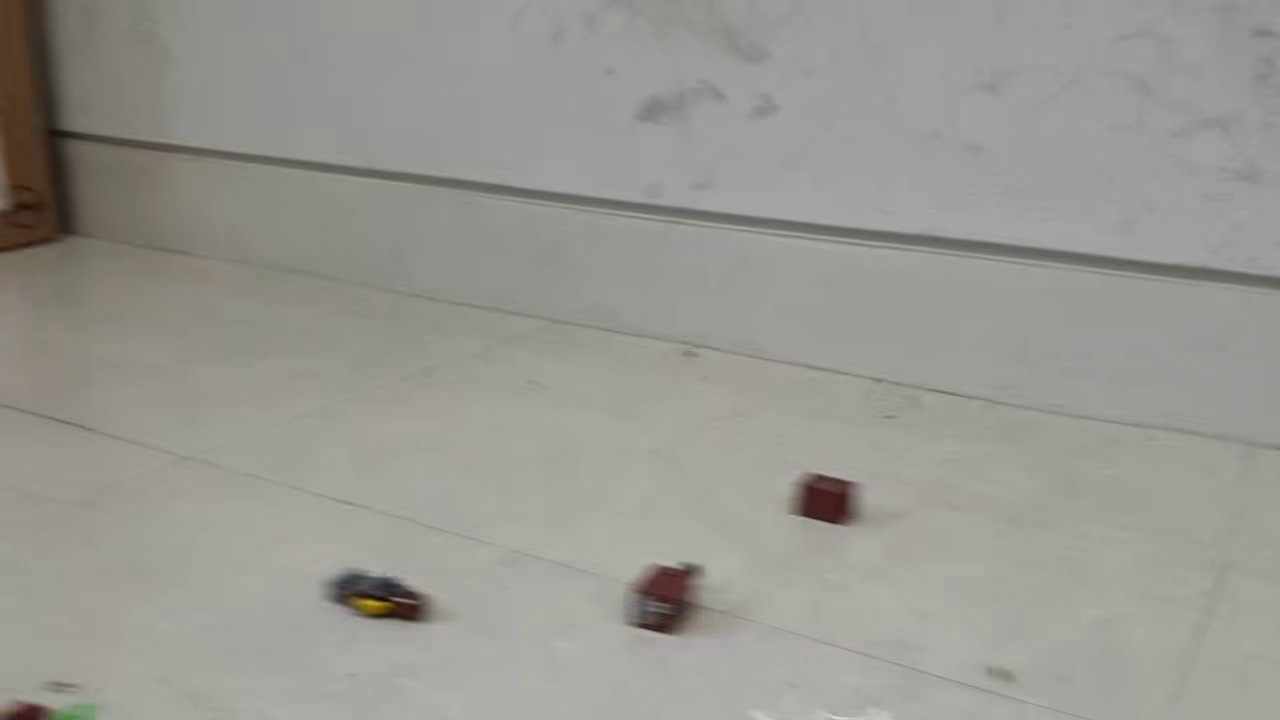box: (622, 562, 707, 635), (788, 471, 862, 529)
people: (318, 568, 430, 629)
